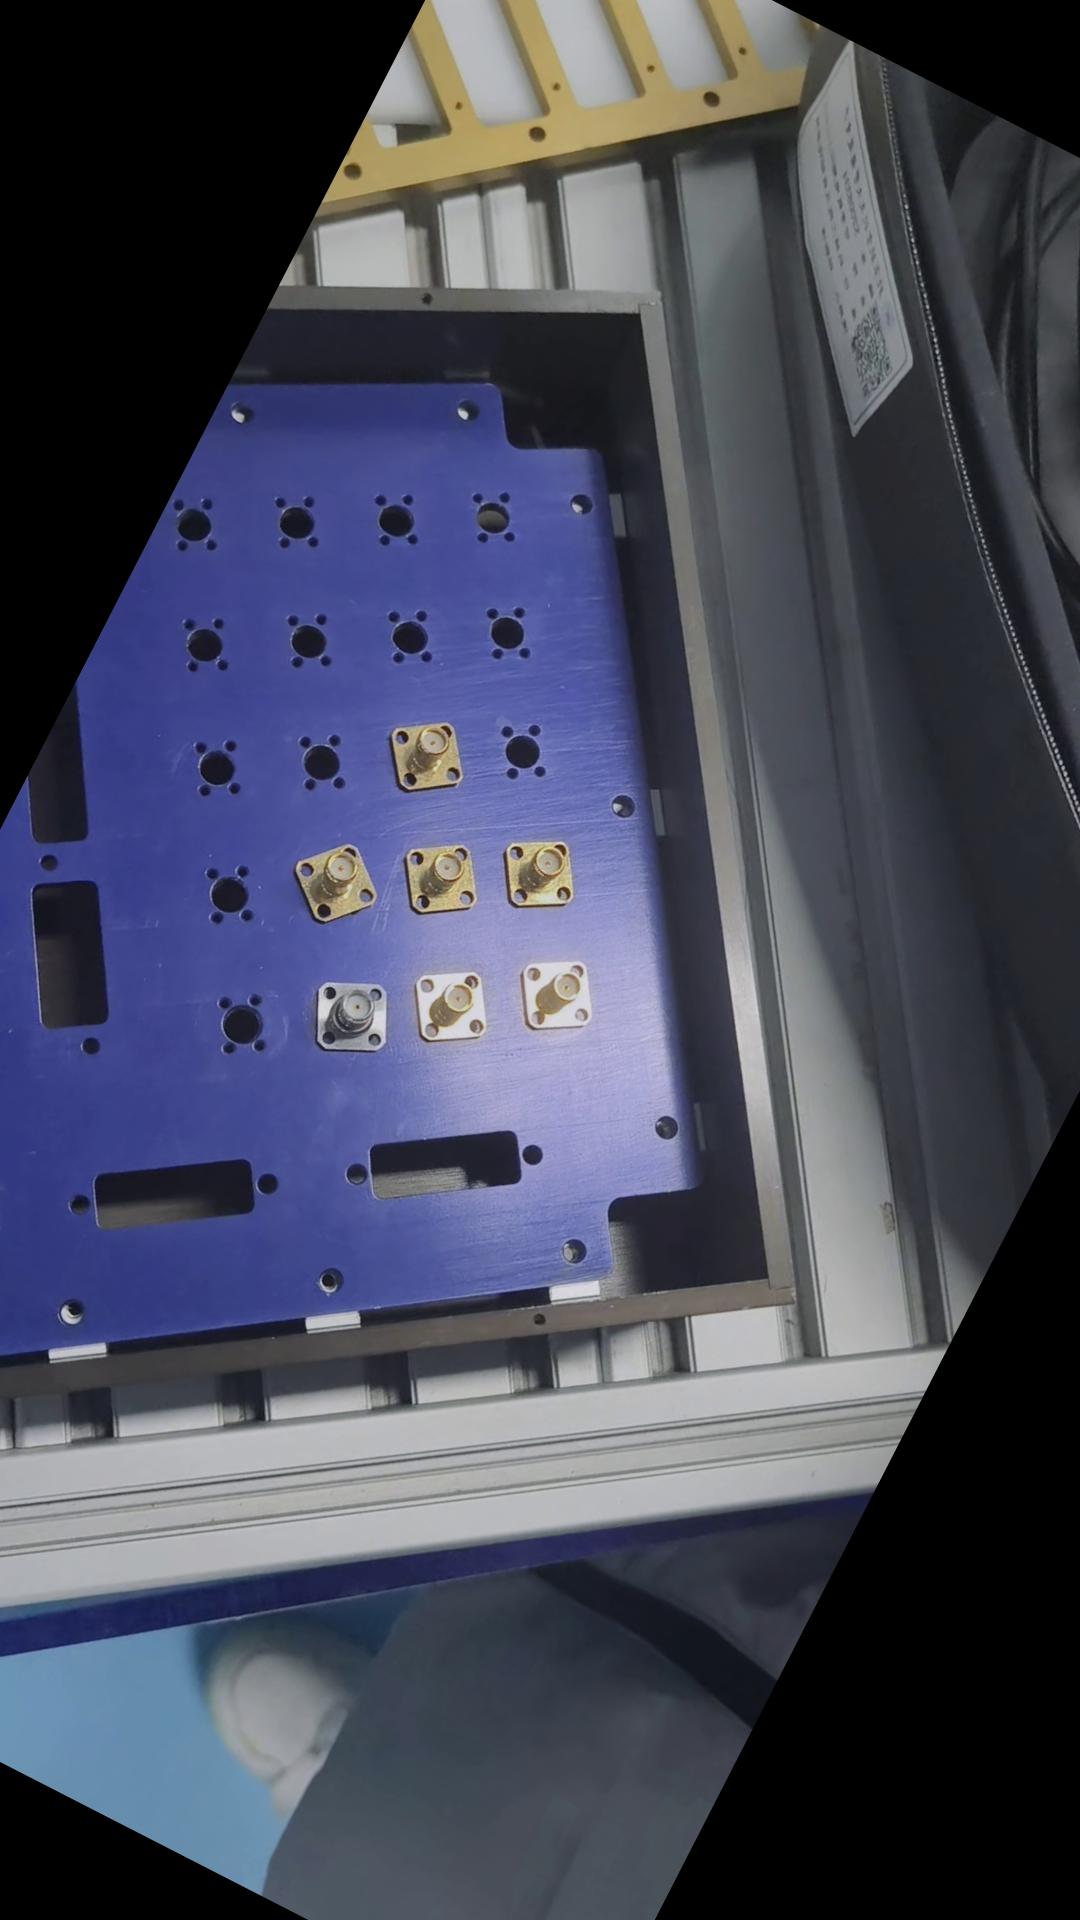SMA: (289, 956, 407, 1077), (272, 822, 388, 938), (380, 816, 492, 932), (389, 944, 501, 1058), (367, 702, 480, 811), (501, 938, 611, 1050), (480, 814, 589, 924)
